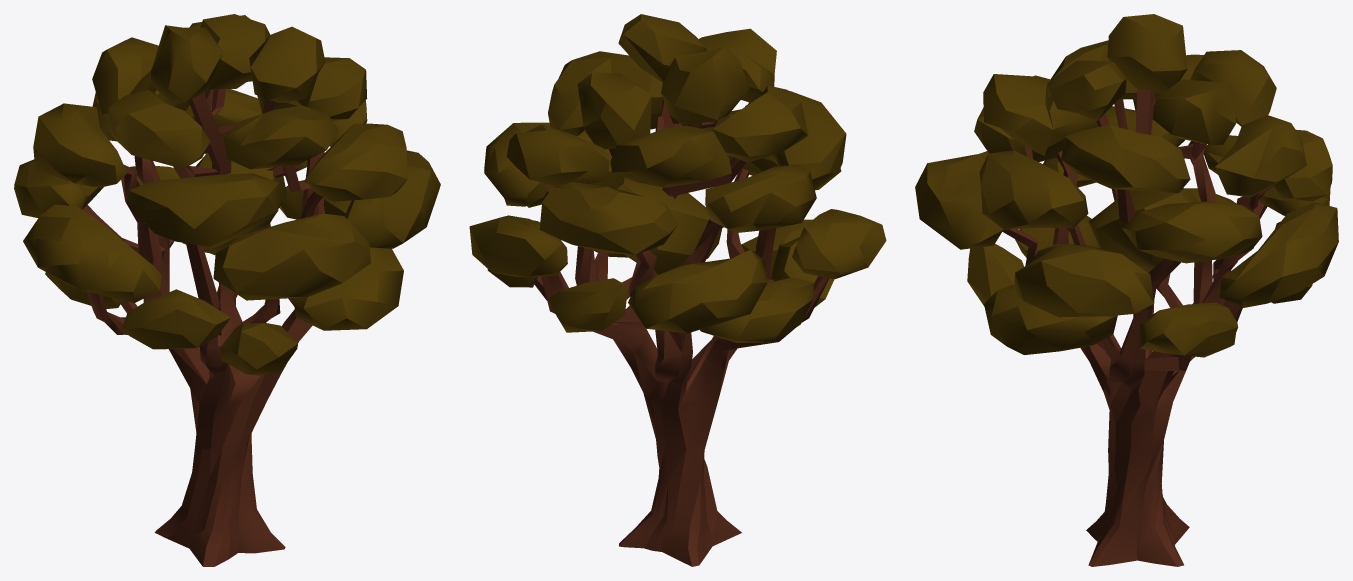
File: Tree_1_Low_1.fbx
3 renders of one model, left to right at view 1: azimuth 30°, elevation 25°; view 2: azimuth 150°, elevation 25°; view 3: azimuth 270°, elevation 25°, orthographic. The views are drawn at different scales.
Visible parts, largest first — view 1: Tree_1_Low_1; view 2: Tree_1_Low_1; view 3: Tree_1_Low_1.
Boxes of the visible parts, box(x1,y1,x2,y2) form: Tree_1_Low_1: box(14, 14, 440, 566); Tree_1_Low_1: box(469, 14, 886, 566); Tree_1_Low_1: box(915, 14, 1338, 566).
Size of the model in its own units: 160 by 208 by 156.
